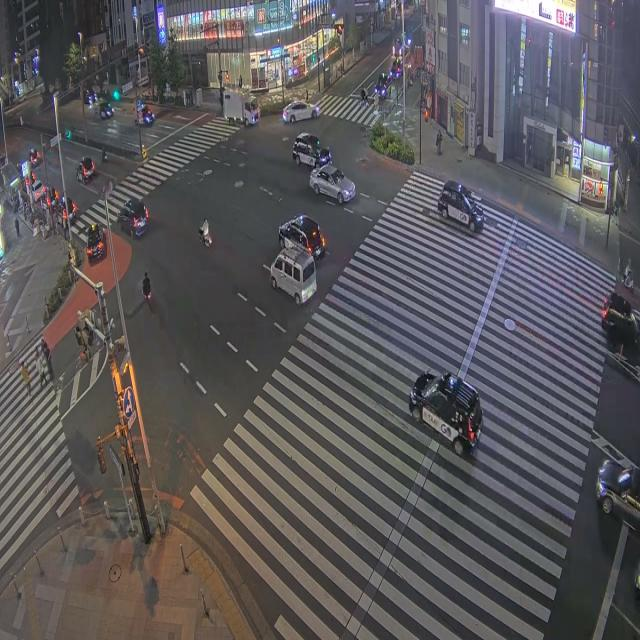car: (409, 372, 482, 455), (596, 460, 639, 520), (437, 181, 484, 232), (602, 292, 639, 346), (279, 216, 324, 258), (310, 165, 355, 204), (293, 133, 331, 167), (118, 199, 148, 237), (283, 101, 319, 123), (86, 224, 105, 261), (55, 196, 77, 225), (77, 157, 95, 183), (374, 73, 390, 99), (134, 105, 154, 125), (22, 172, 37, 193), (389, 57, 402, 79), (98, 100, 113, 119), (47, 184, 59, 207), (32, 181, 45, 201), (83, 89, 97, 106), (29, 149, 42, 167), (392, 38, 401, 57)
motorcycle: (618, 260, 633, 291), (199, 227, 212, 247), (142, 288, 151, 302)
truck: (223, 88, 259, 126)
van: (271, 248, 316, 304)
